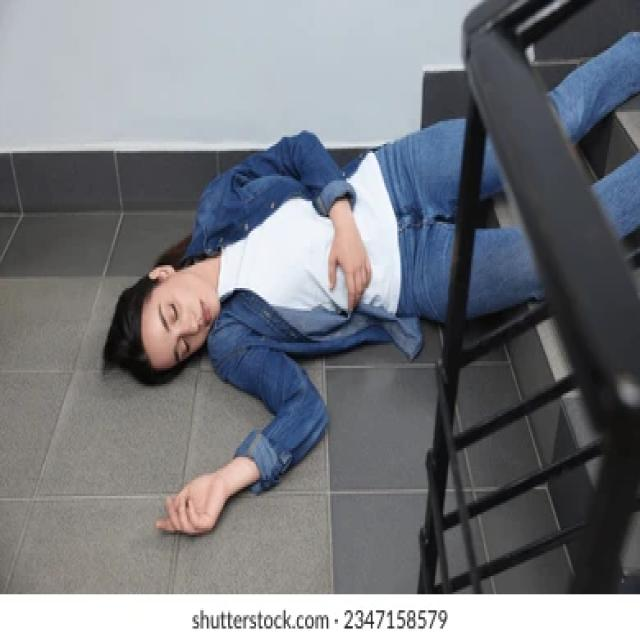unconscious people: (74, 73, 589, 551)
